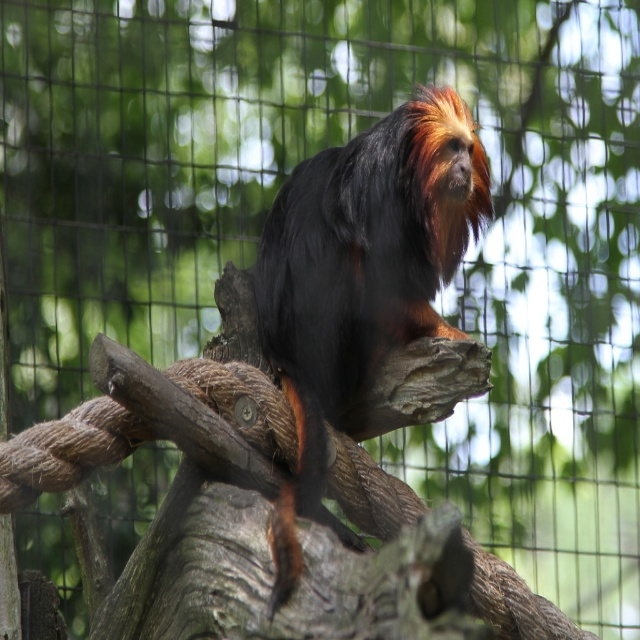Monkey: (253, 81, 496, 622)
